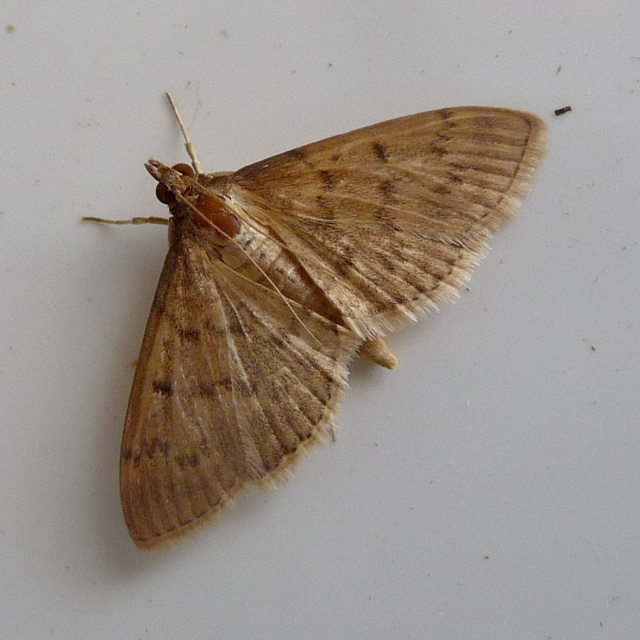Butterfly: (81, 90, 546, 552)
